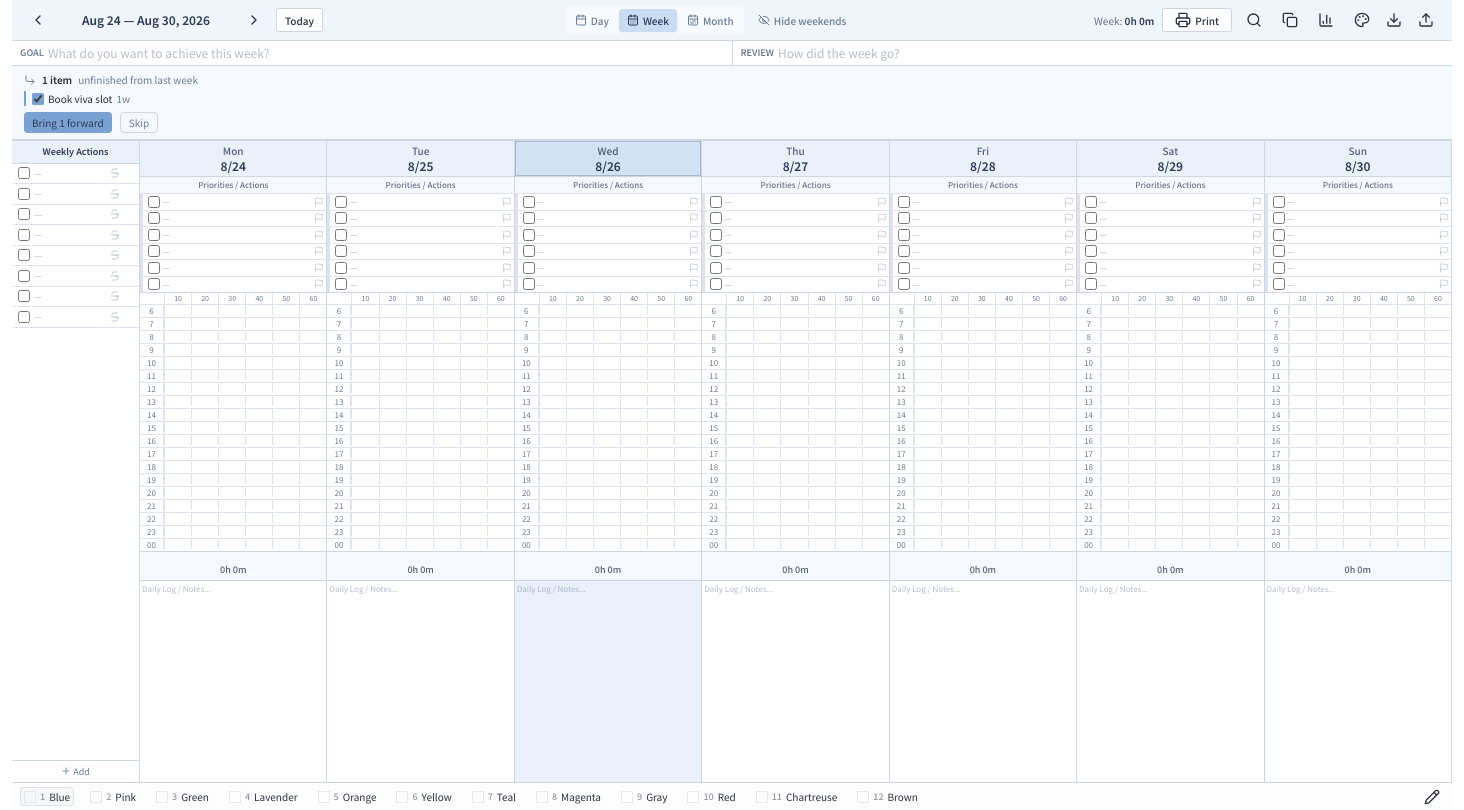
StudyPlanner carry-forward › hides the bar in the month view
Click the button "Month" at (710, 20), box [679, 8, 742, 32]
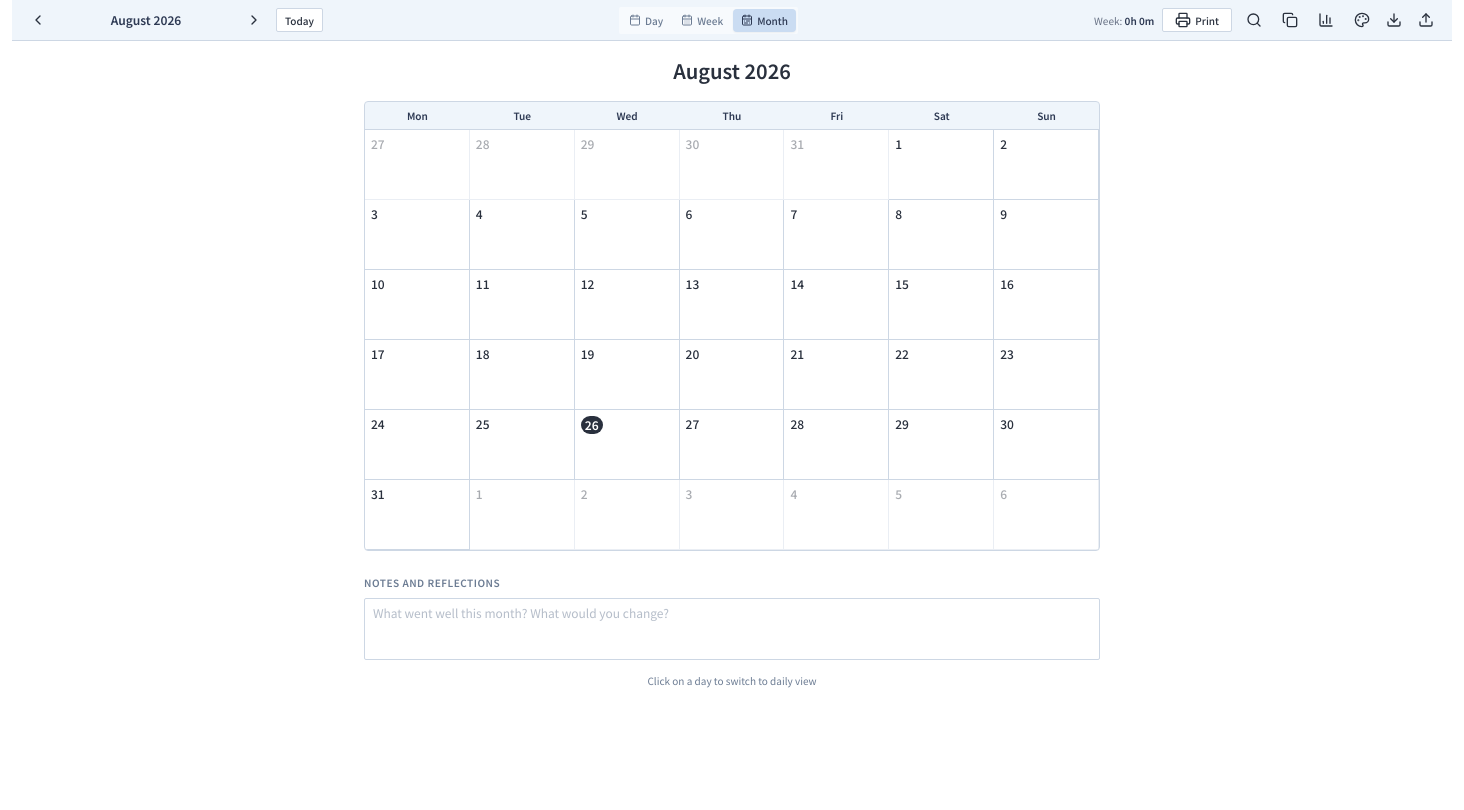
Expected: the text "unfinished from last week" is gone
